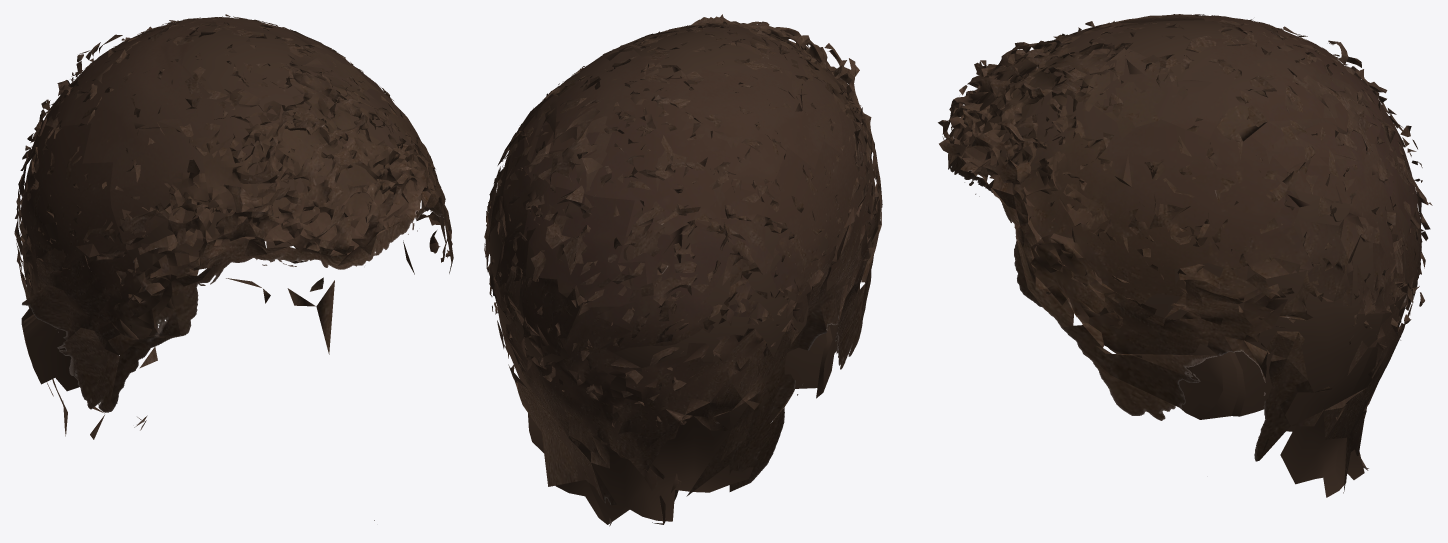
The model's file is Hair_ShortCurly.glb.
3 views of the same model, side by side, from view 1: azimuth 30°, elevation 25°; view 2: azimuth 150°, elevation 25°; view 3: azimuth 270°, elevation 25° (orthographic). The views are drawn at different scales.
Visible parts, largest first — view 1: HairMesh; view 2: HairMesh; view 3: HairMesh.
Boxes of the visible parts, bbox=[...] form: HairMesh: bbox=[14, 14, 453, 520]; HairMesh: bbox=[484, 14, 882, 526]; HairMesh: bbox=[938, 14, 1432, 497].
Bounding box in the file's own units: 0.1704 × 0.199 × 0.2116.
1 material, 1 textured.
